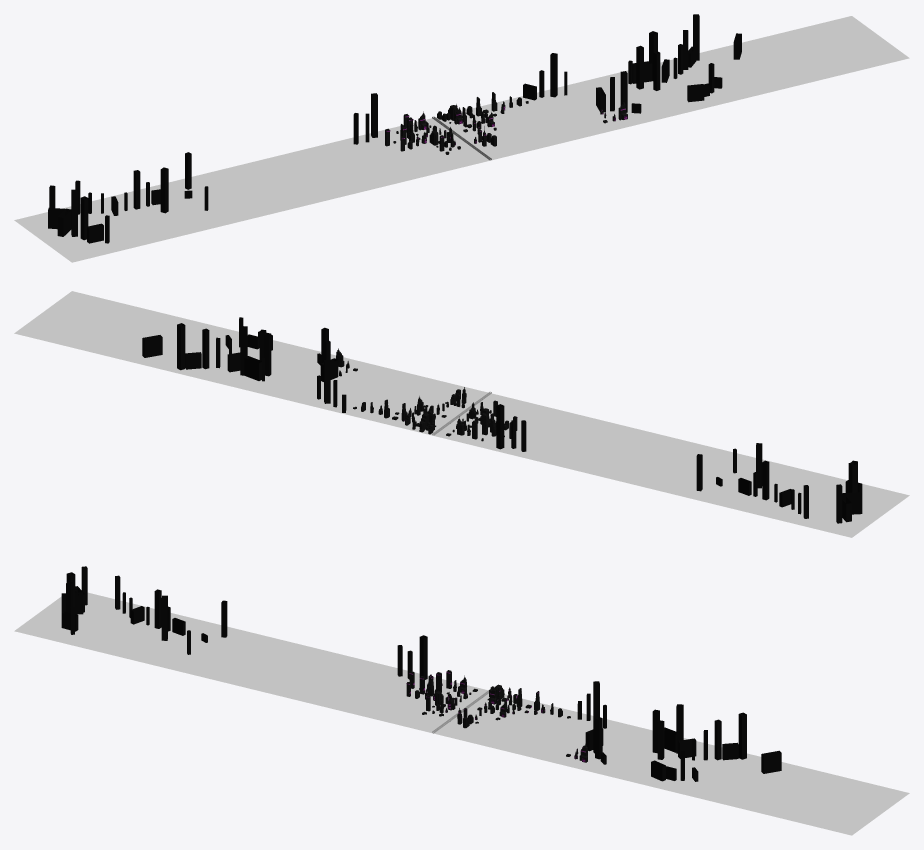
Rendered from cit5.FBX.
3 views of the same model, one above another, from view 1: azimuth 30°, elevation 25°; view 2: azimuth 150°, elevation 25°; view 3: azimuth 330°, elevation 25° (orthographic).
Visible parts, largest first — view 1: Plane024, building018; view 2: Plane024, building018; view 3: Plane024, building018.
Boxes of the visible parts, bbox=[...] form: Plane024: bbox=[14, 16, 909, 262]; building018: bbox=[48, 14, 741, 243]; Plane024: bbox=[14, 291, 909, 537]; building018: bbox=[142, 317, 862, 523]; Plane024: bbox=[14, 592, 909, 835]; building018: bbox=[61, 566, 781, 781].
Bounding box in the file's own units: 20000 × 2400 × 1123.
